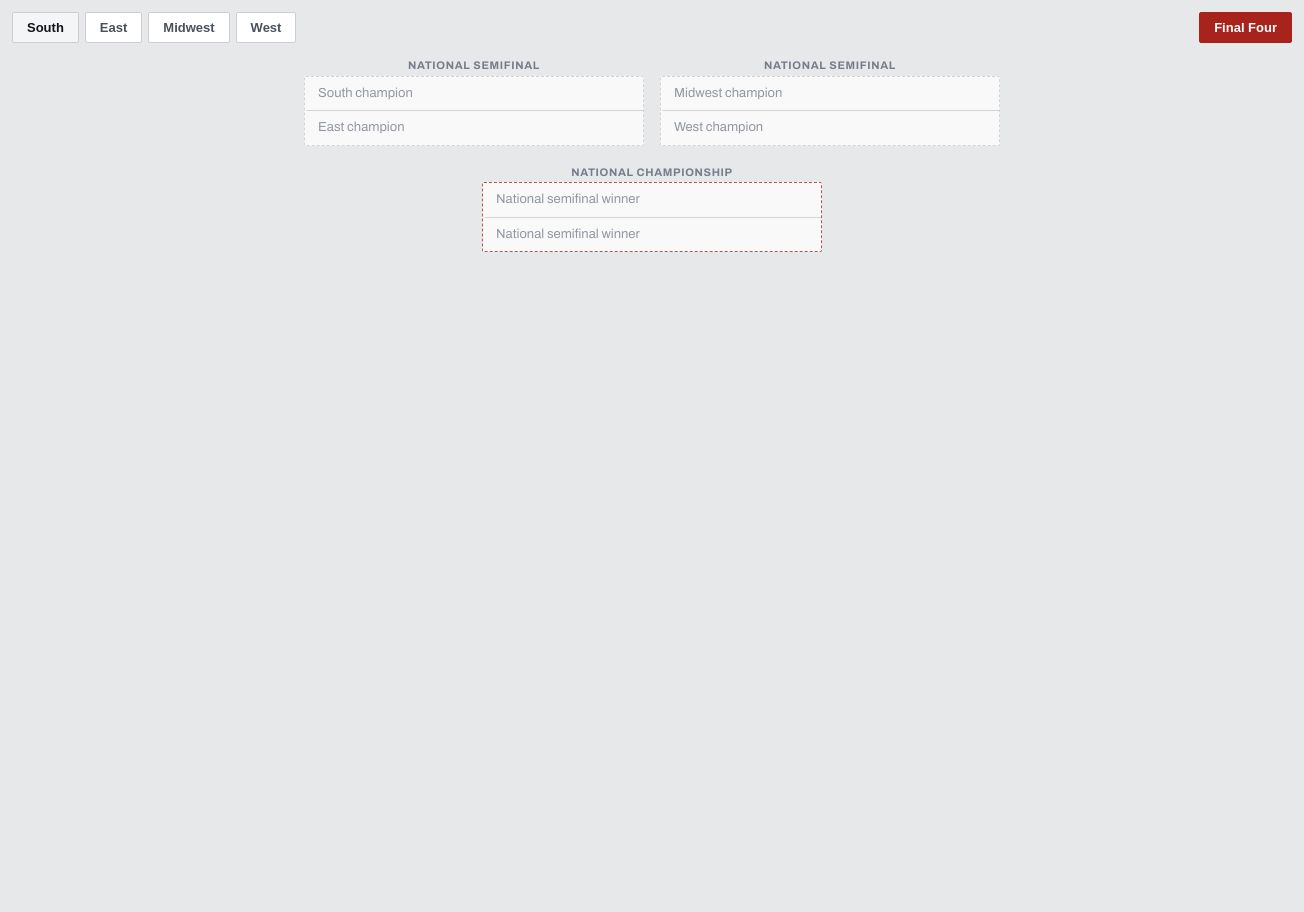
Scenario: Bracket — projected feeders and TBD team lines › renders a resolved TBD team line with its seed
This screenshot has width=1304, height=912.
What coordinates should you click on to do the following:
click the tab "South"
I would click on:
 (45, 28)
Its box is [12,12,79,43].
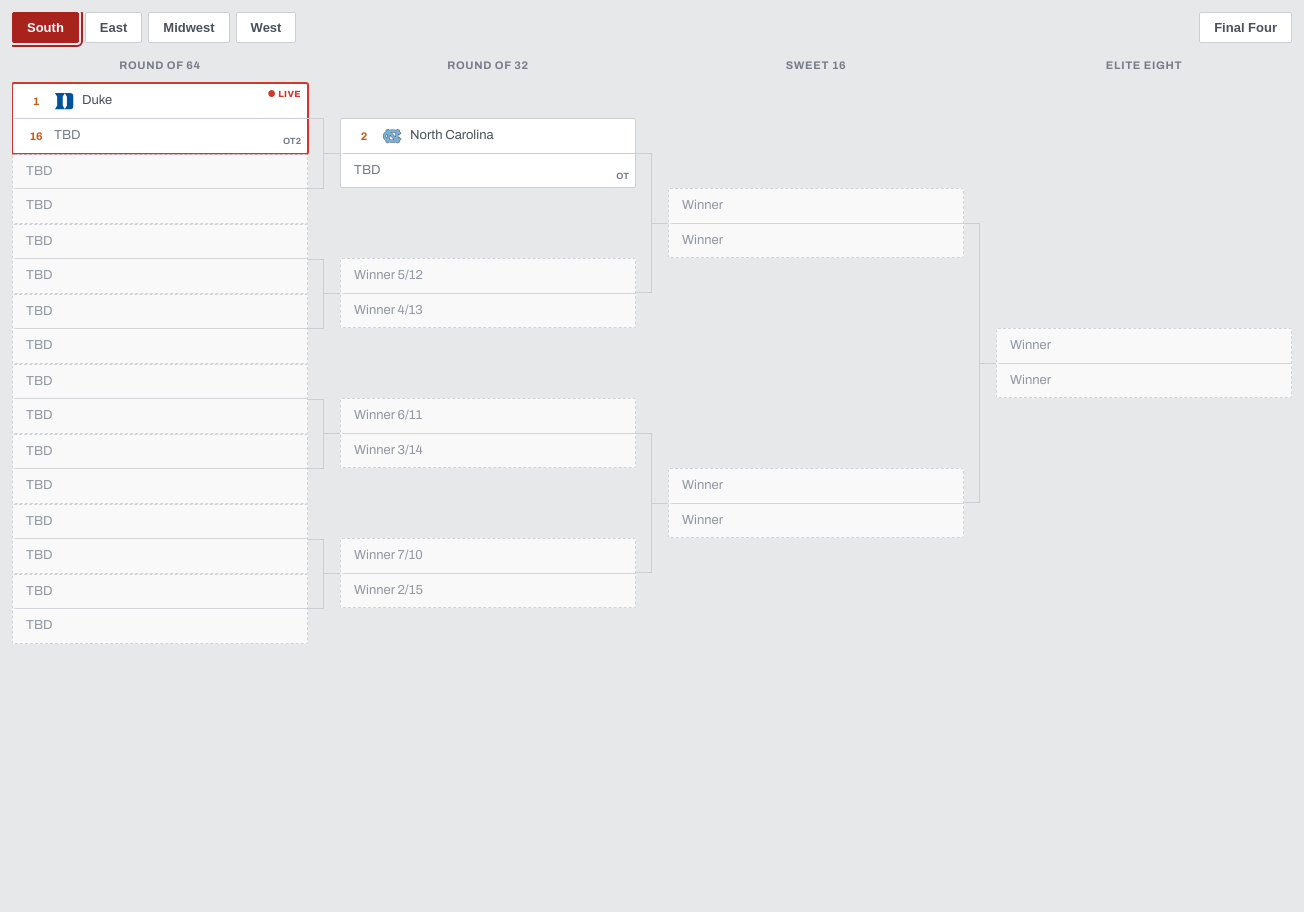
Result: the element with class "mm-tbd" showing "16 TBD" is shown at [13,118,307,152]
Result: the text with class "mm-name" below "● Live" reads "TBD" at [54,128,80,142]
